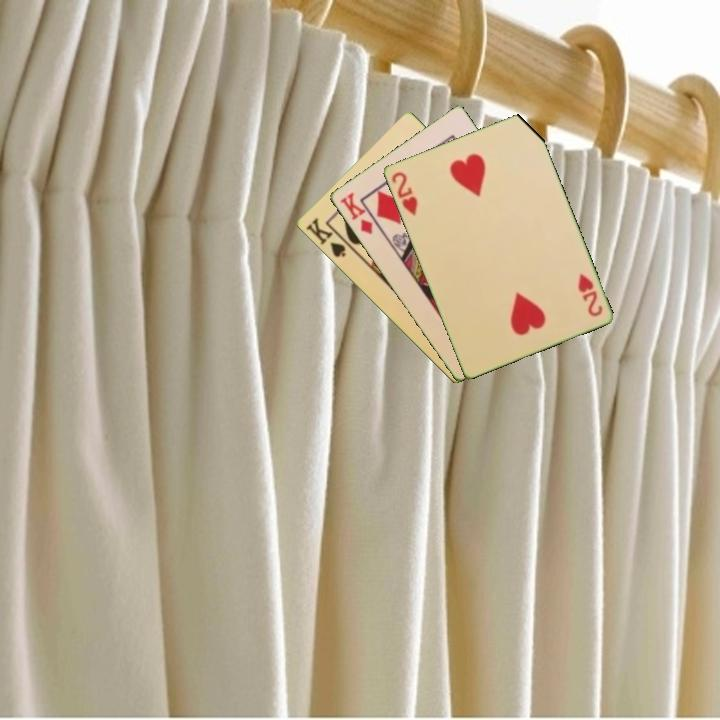2h: (387, 168, 420, 219), (574, 270, 605, 319)
Kd: (336, 188, 375, 238)
Ks: (302, 214, 348, 260)
